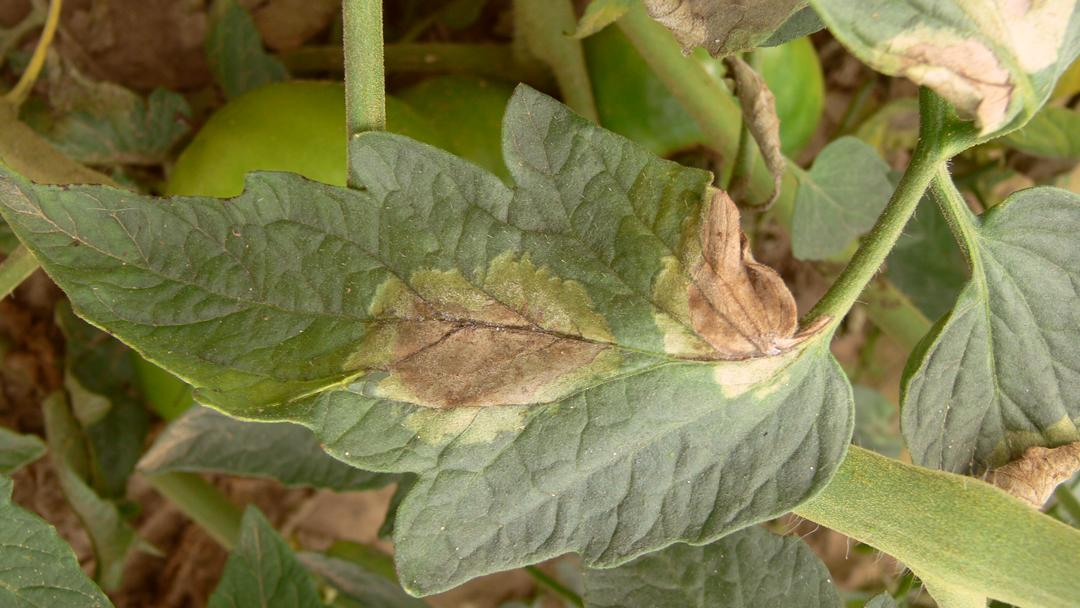Tomato leaf late blight: (1, 64, 869, 594)
